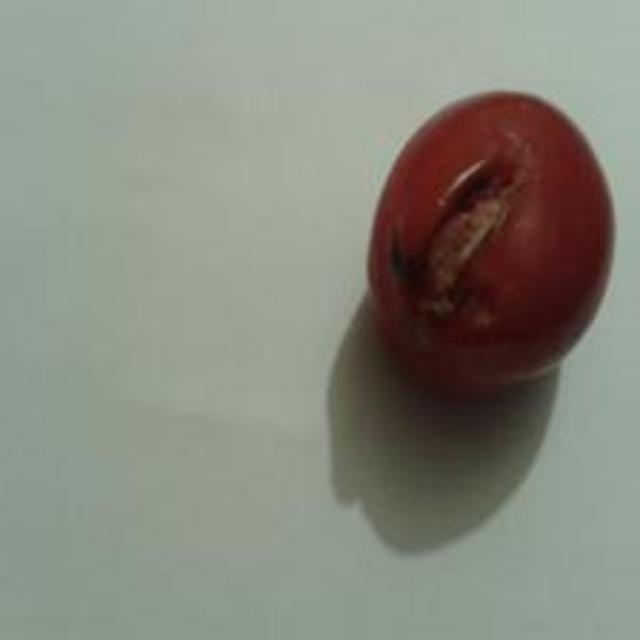defect: (362, 83, 622, 398)
